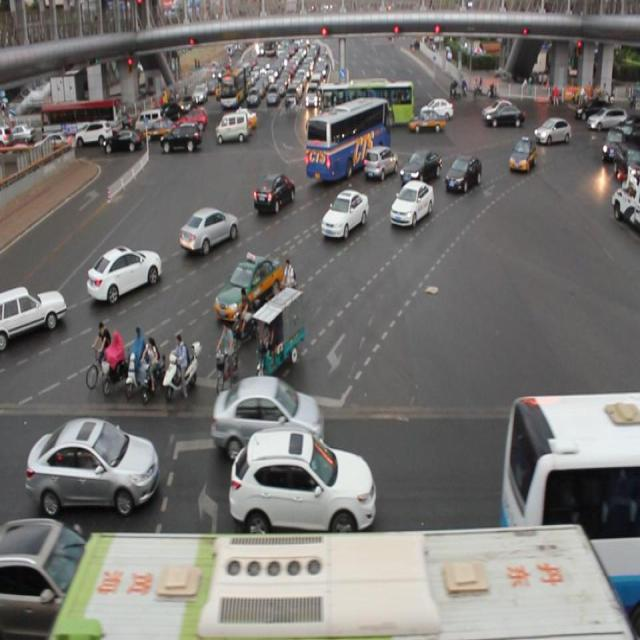car: (230, 429, 376, 531), (27, 416, 161, 516), (0, 516, 101, 640), (210, 373, 322, 457), (524, 412, 600, 526), (213, 250, 282, 320), (1, 280, 67, 352), (88, 241, 162, 305), (180, 204, 240, 256), (319, 190, 369, 240), (389, 179, 433, 228), (252, 172, 296, 217), (443, 152, 480, 194), (399, 148, 441, 184), (363, 145, 398, 180), (508, 136, 536, 174), (533, 117, 570, 144)
van: (48, 525, 627, 640), (501, 386, 640, 616), (306, 98, 392, 182)
